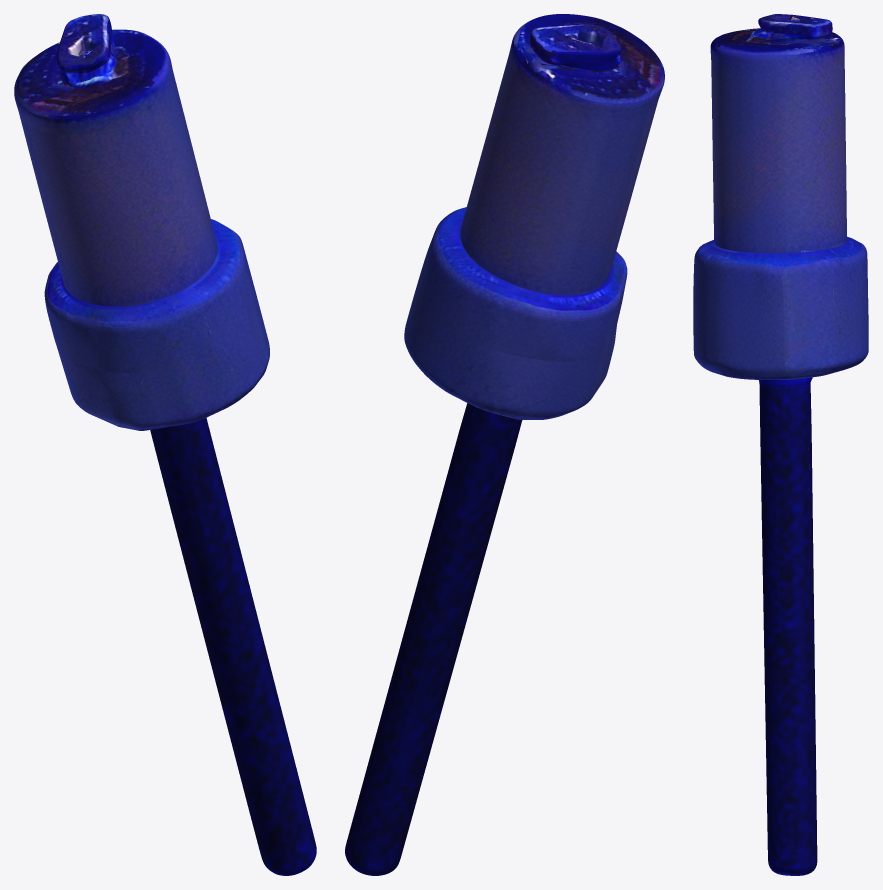
The model's file is hunyuan_recon.glb.
3 views of the same model, side by side, from view 1: azimuth 30°, elevation 25°; view 2: azimuth 150°, elevation 25°; view 3: azimuth 270°, elevation 25° (orthographic). The views are drawn at different scales.
Visible parts, largest first — view 1: refined.obj; view 2: refined.obj; view 3: refined.obj.
Boxes of the visible parts, left/top/right/bottom form: refined.obj: left=14, top=14, right=316, bottom=875; refined.obj: left=345, top=14, right=664, bottom=875; refined.obj: left=693, top=14, right=868, bottom=875.
Bounding box in the file's own units: 0.0413 × 0.1182 × 0.0242.
1 material, 1 textured.
